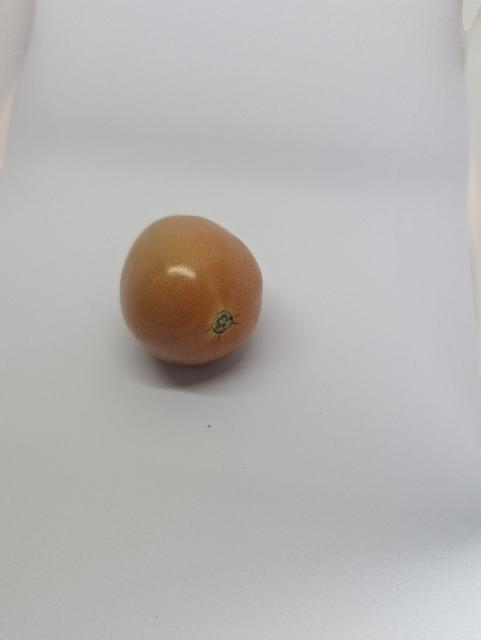turning: (113, 205, 275, 379)
